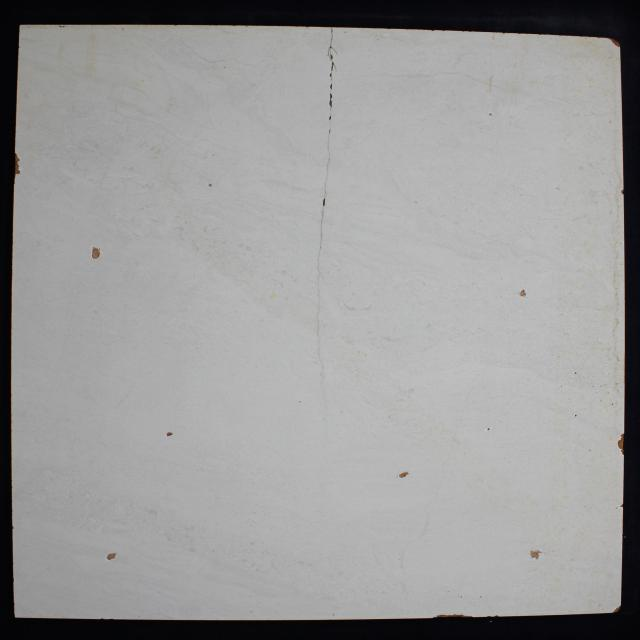edge-chipping: (617, 432, 625, 456), (608, 38, 620, 48), (432, 614, 453, 619), (453, 614, 474, 618), (14, 152, 20, 165), (612, 605, 621, 613), (14, 166, 21, 175), (13, 175, 16, 184), (619, 503, 623, 508), (621, 189, 624, 195)
hole: (529, 550, 543, 560), (91, 247, 101, 259), (106, 552, 118, 560), (517, 289, 527, 297), (398, 472, 409, 478), (166, 431, 173, 437), (322, 198, 326, 206), (329, 100, 332, 108), (208, 183, 213, 187), (330, 54, 333, 60), (486, 427, 490, 431), (489, 112, 493, 116), (330, 93, 332, 99), (330, 84, 332, 89), (574, 414, 577, 417), (330, 73, 332, 77), (329, 116, 331, 120), (574, 372, 576, 374)
line: (317, 207, 324, 274), (315, 274, 321, 340), (326, 136, 332, 168), (324, 169, 330, 195), (331, 27, 334, 46)
